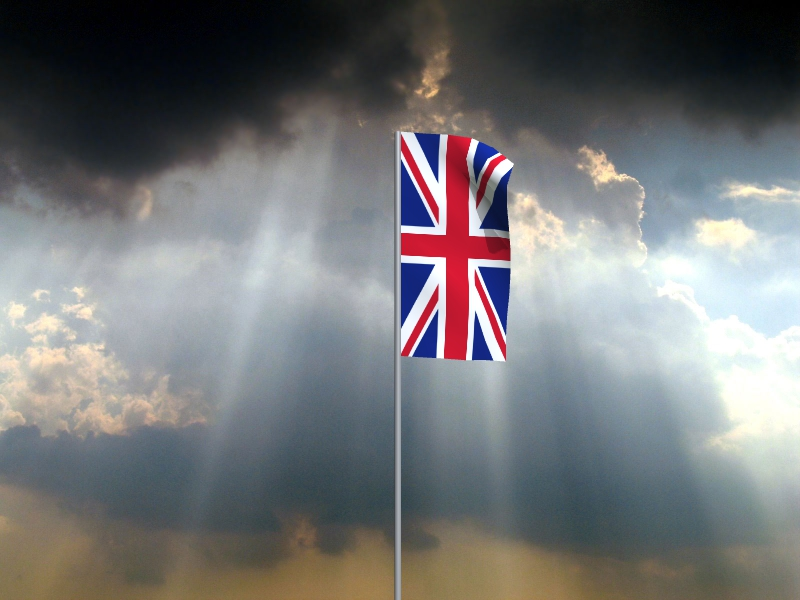gb: (401, 133, 515, 363)
